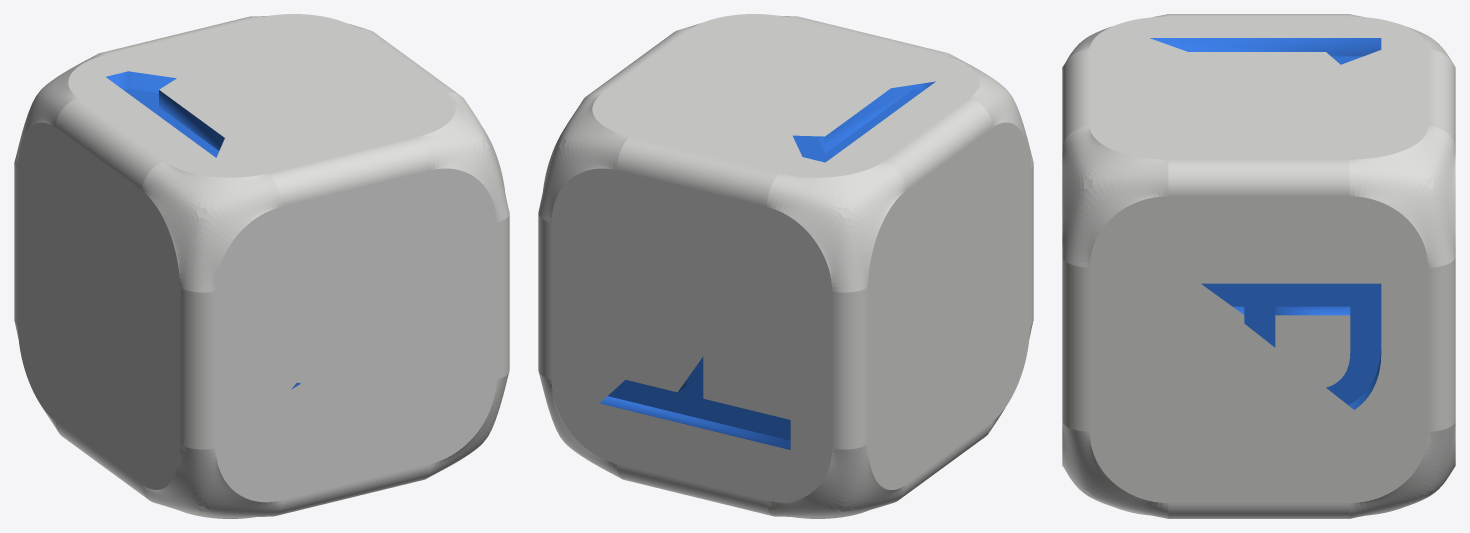
File: BoggleDice.fbx_Die9.fbx
The picture shows the model from 3 angles, left to right: view 1: azimuth 30°, elevation 25°; view 2: azimuth 150°, elevation 25°; view 3: azimuth 270°, elevation 25°; orthographic projection. The views are drawn at different scales.
Visible parts, largest first — view 1: Die9; view 2: Die9; view 3: Die9.
Part boxes in pixels (x1,y1,x2,y2): Die9: (14,14,509,518); Die9: (538,14,1033,518); Die9: (1062,14,1455,518).
Bounding box in the file's own units: 200 × 200 × 200.
